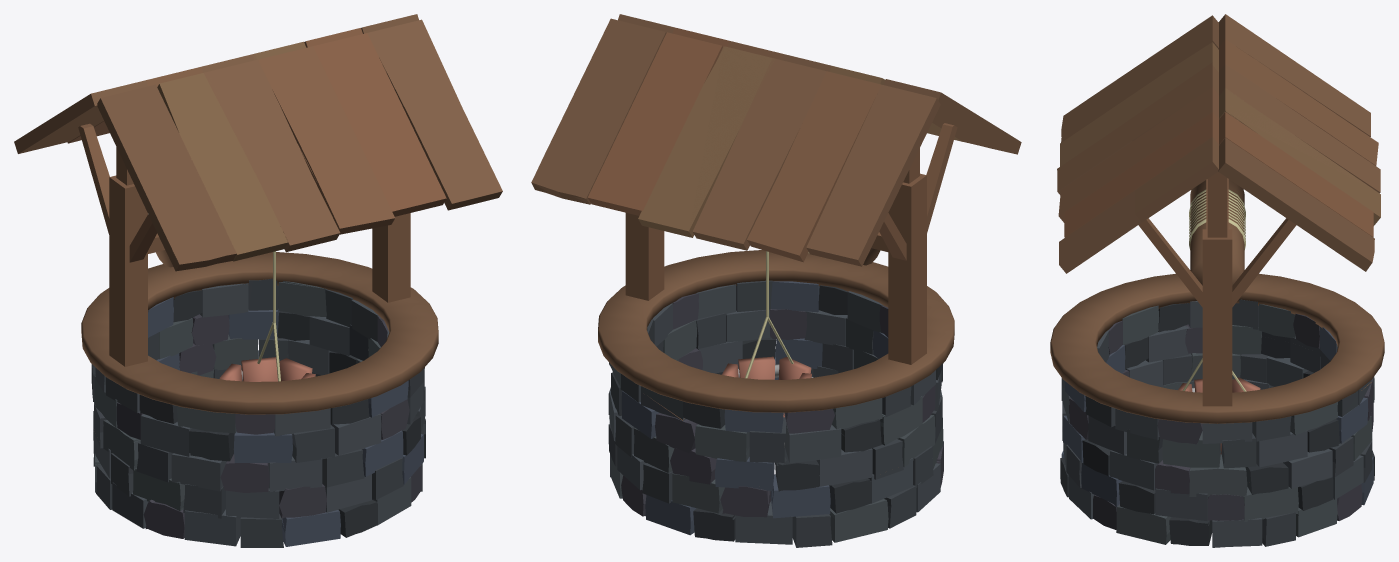
Rendered from Well.gltf.
3 renders of one model, left to right at view 1: azimuth 30°, elevation 25°; view 2: azimuth 150°, elevation 25°; view 3: azimuth 270°, elevation 25°, orthographic. The views are drawn at different scales.
Parts seen in each view (by area): view 1: Well_Detail_Mid, Well_Destruction.003, Well_Destruction.002, Well_Destruction.001; view 2: Well_Detail_Mid, Well_Destruction.003, Well_Destruction.001, Well_Destruction.002; view 3: Well_Detail_Mid, Well_Destruction.003, Well_Destruction.001, Well_Destruction.002.
Part boxes in pixels (box(x1,y1,x2,y2)): Well_Detail_Mid: box(14, 14, 502, 547); Well_Destruction.003: box(191, 247, 424, 464); Well_Destruction.002: box(18, 41, 397, 271); Well_Destruction.001: box(93, 368, 377, 547); Well_Detail_Mid: box(531, 14, 1018, 545); Well_Destruction.003: box(609, 239, 818, 498); Well_Destruction.001: box(694, 343, 943, 547); Well_Destruction.002: box(531, 43, 1021, 261); Well_Detail_Mid: box(1050, 14, 1384, 547); Well_Destruction.003: box(1065, 360, 1373, 547); Well_Destruction.001: box(1061, 300, 1374, 484); Well_Destruction.002: box(1059, 15, 1378, 271).
Bounding box in the file's own units: 2.26 × 2.79 × 2.14.
